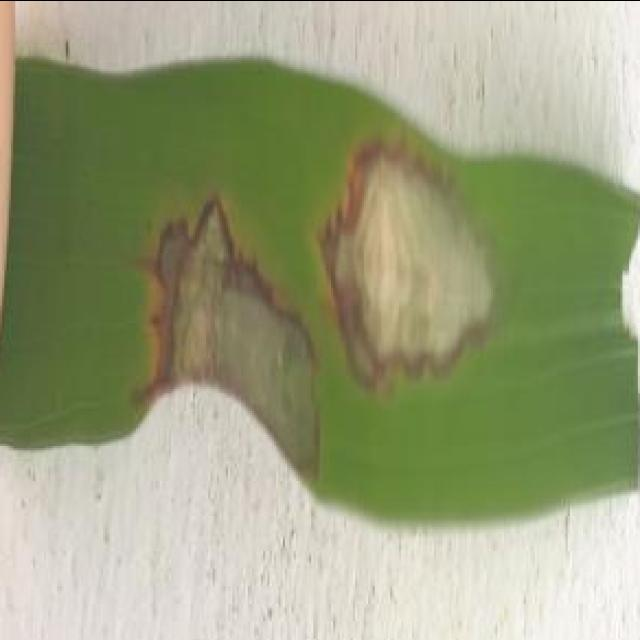Leaf_Blast: (309, 86, 528, 402), (122, 204, 338, 494)
